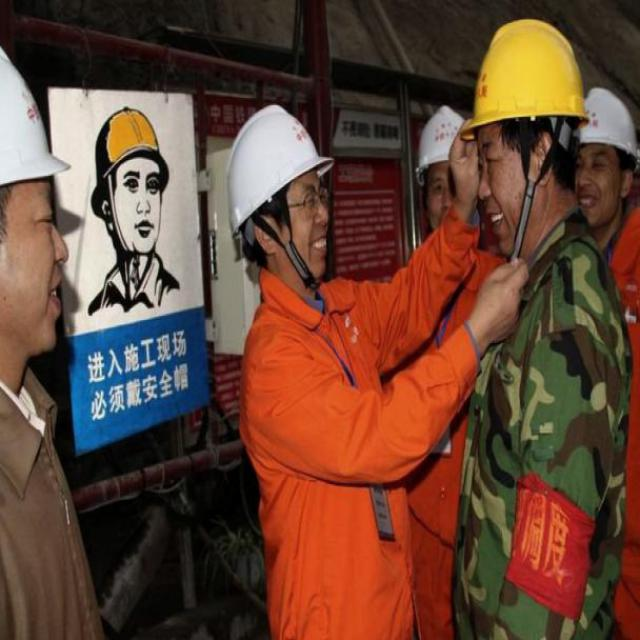helmet: (468, 3, 586, 251), (220, 81, 346, 294), (578, 72, 638, 216), (411, 96, 468, 216)
